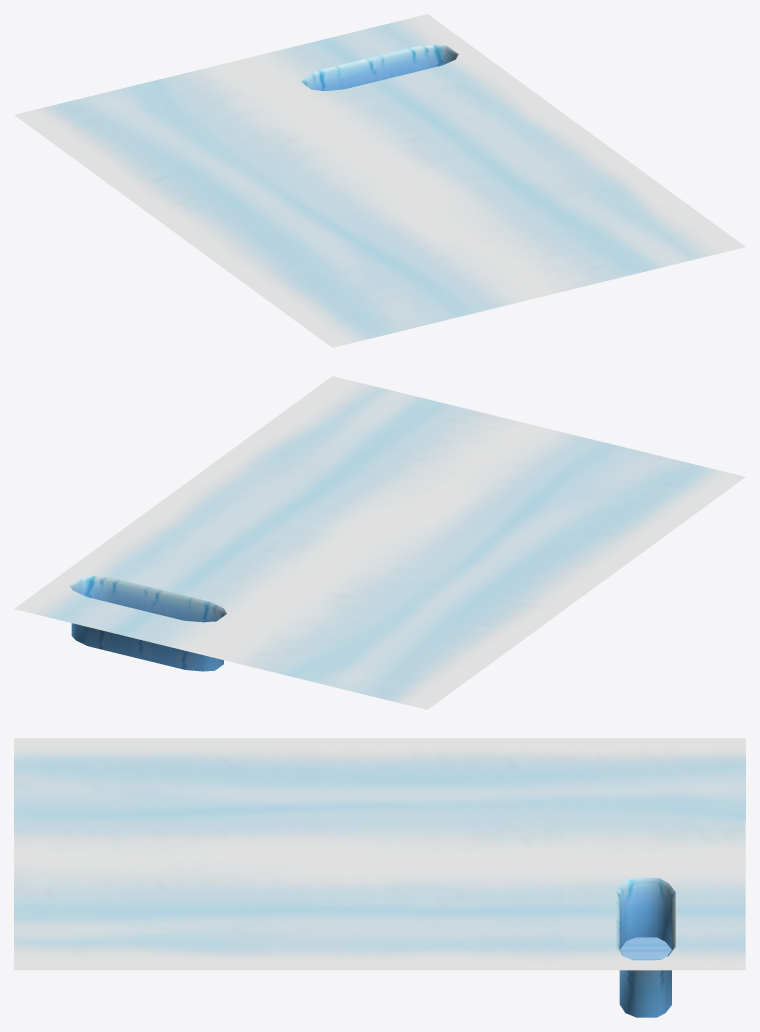
File: Hole_S_Size_03.FBX
The picture shows the model from 3 angles, top to bottom: view 1: azimuth 30°, elevation 25°; view 2: azimuth 150°, elevation 25°; view 3: azimuth 270°, elevation 25°; orthographic projection. The views are drawn at different scales.
Visible parts, largest first — view 1: Object110; view 2: Object110; view 3: Object110.
Part boxes in pixels (x1=…): Object110: x1=14, y1=14, x2=745, y2=347; Object110: x1=14, y1=376, x2=745, y2=709; Object110: x1=14, y1=738, x2=745, y2=1017.
Size of the model in its own units: 600 by 70 by 800.
